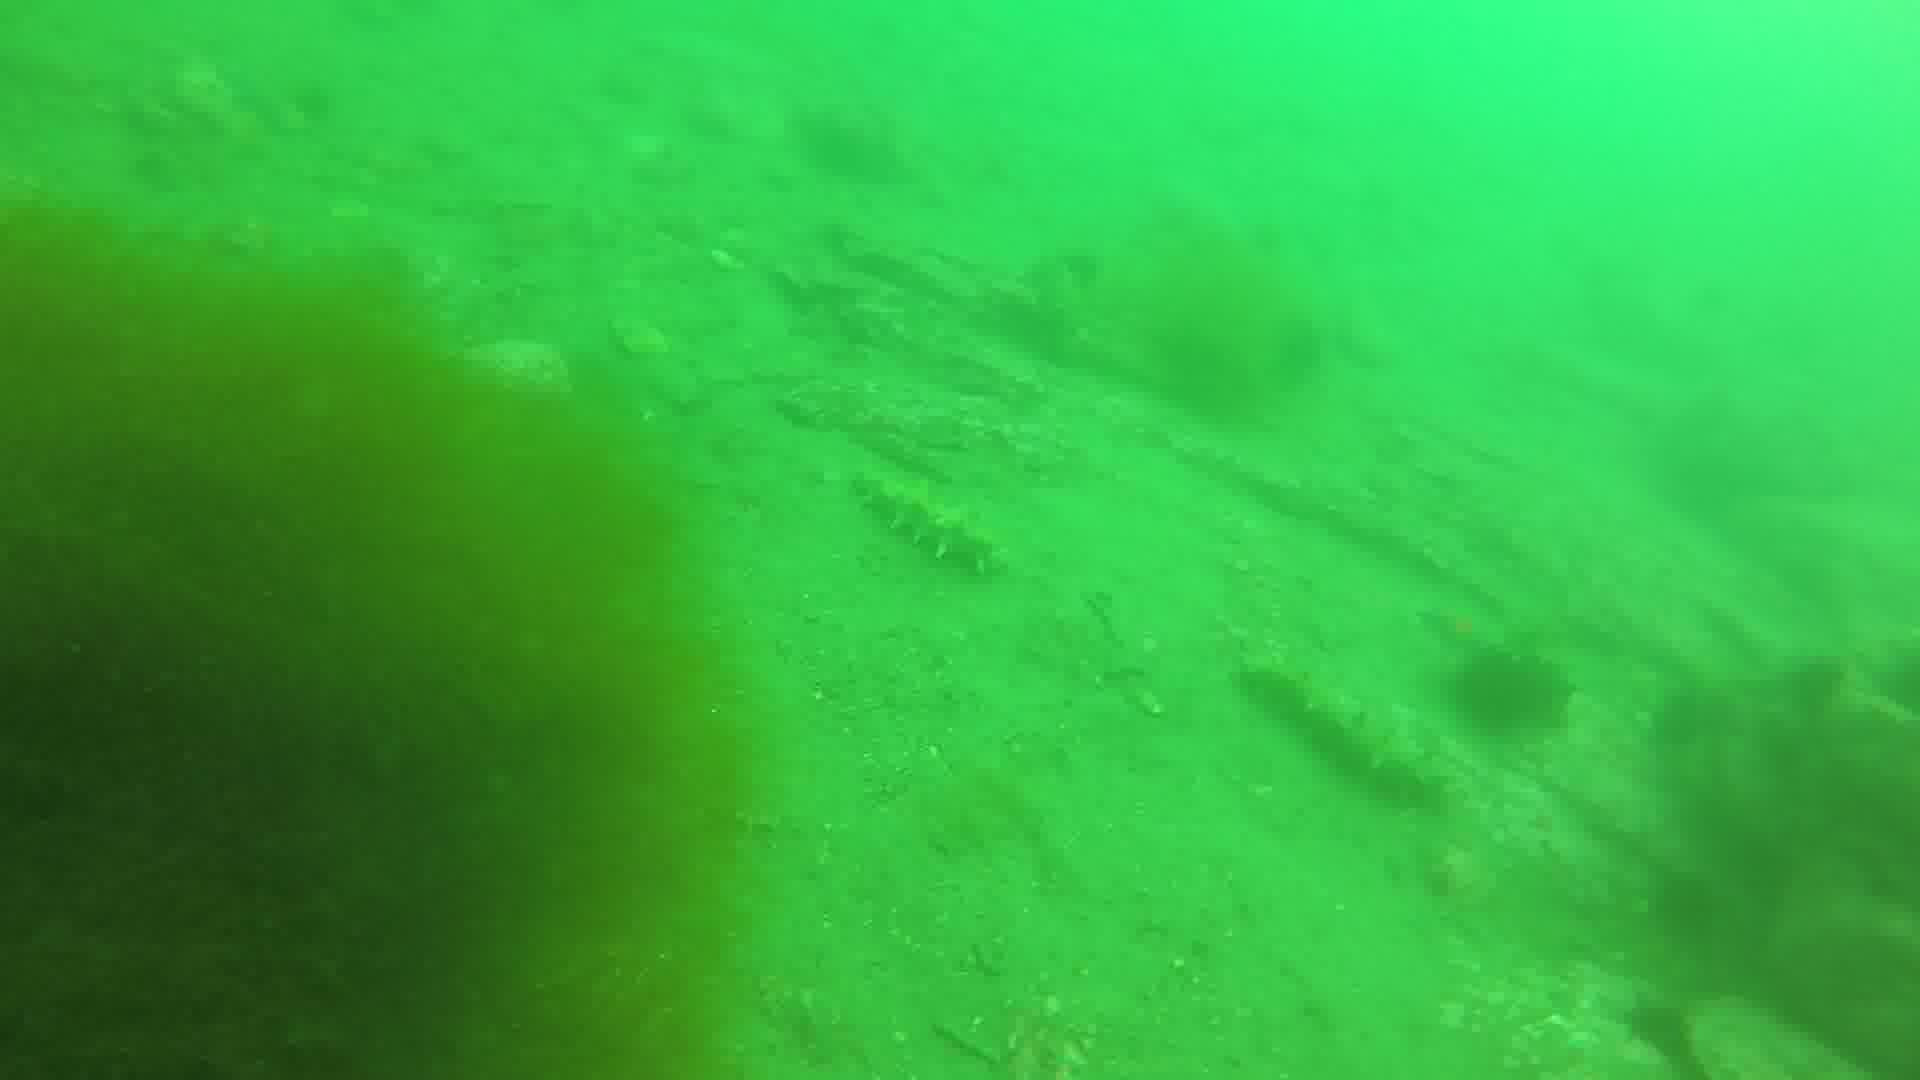holothurian: (1246, 647, 1447, 808), (861, 467, 1010, 582)
starfish: (1423, 605, 1519, 680)
